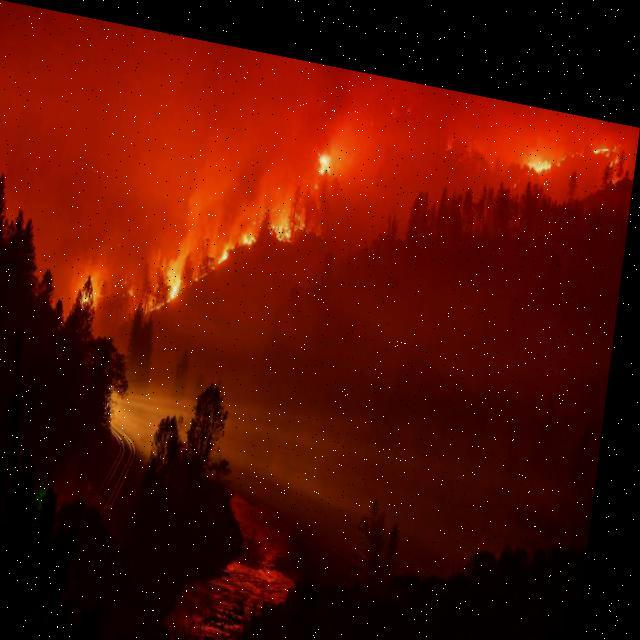Fire: (167, 92, 341, 324), (523, 98, 626, 177)
